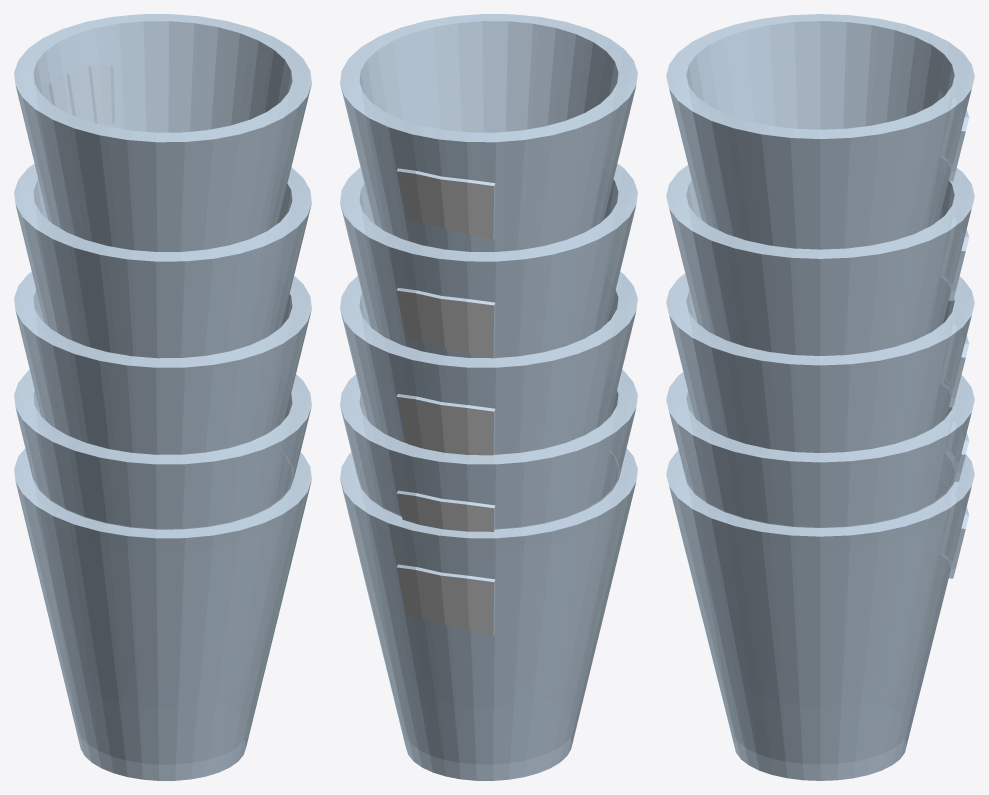
Rendered from variosvasos.glb.
3 renders of one model, left to right at view 1: azimuth 30°, elevation 25°; view 2: azimuth 150°, elevation 25°; view 3: azimuth 270°, elevation 25°, orthographic.
Visible parts, largest first — view 1: Cilindro.004, Cilindro, Cilindro.003, Cilindro.002, Cilindro.001; view 2: Cilindro.004, Cilindro, Cilindro.003, Cilindro.002, Cilindro.001; view 3: Cilindro, Cilindro.004, Cilindro.003, Cilindro.002, Cilindro.001.
Boxes of the visible parts, box(x1,y1,x2,y2) form: Cilindro.004: box(14, 14, 311, 251); Cilindro: box(14, 448, 311, 780); Cilindro.003: box(14, 163, 311, 358); Cilindro.002: box(14, 271, 311, 454); Cilindro.001: box(14, 369, 311, 529); Cilindro.004: box(340, 14, 637, 251); Cilindro: box(340, 448, 637, 780); Cilindro.003: box(340, 163, 637, 358); Cilindro.002: box(340, 271, 637, 463); Cilindro.001: box(340, 369, 637, 557); Cilindro: box(666, 450, 974, 780); Cilindro.004: box(666, 14, 974, 249); Cilindro.003: box(666, 165, 974, 355); Cilindro.002: box(666, 273, 974, 452); Cilindro.001: box(666, 372, 974, 527).
Size of the model in its own units: 2.14 by 5.35 by 2.23.
